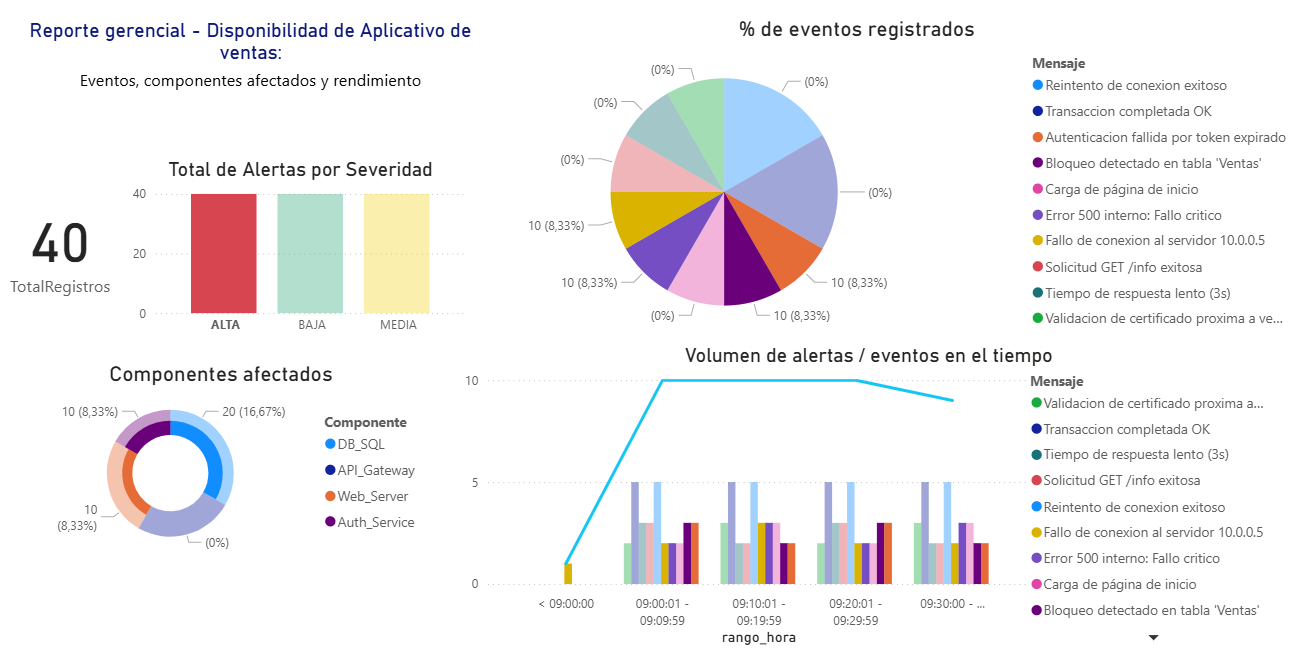

This screenshot's page, from the dashboard's own definition file:
{"tool":"powerbi","page":{"name":"Página 1","canvas":[1280,720],"ordinal":0},"visuals":[{"type":"pieChart","title":"% de eventos registrados","fields":{"Category":["logs_transacciones.Mensaje"],"Y":["CountNonNull(logs_transacciones.Mensaje)"]},"box":[409.6,22,870.7,320.4],"z":0},{"type":"clusteredColumnChart","title":"Total de Alertas por Severidad","fields":{"Category":["logs_transacciones.Severidad"],"Y":["CountNonNull(logs_transacciones.Severidad)"]},"box":[132.1,160.2,337.5,182.2],"z":1000},{"type":"card","fields":{"Values":["logs_transacciones.Medida"]},"box":[0,182.2,132.1,129.6],"z":2000},{"type":"donutChart","title":"Componentes afectados","fields":{"Category":["logs_transacciones.Componente"],"Y":["CountNonNull(logs_transacciones.Severidad)"]},"box":[18.3,359.5,409.6,195.7],"z":3000},{"type":"textbox","title":"Reporte gerencial - Disponibilidad de Aplicativo de ventas:","box":[18.3,24.5,467.1,100.3],"z":4000},{"type":"lineClusteredColumnComboChart","title":"Volumen de alertas / eventos en el tiempo","fields":{"Y":["CountNonNull(logs_transacciones.Mensaje)"],"Category":["logs_transacciones.rango_hora"],"Y2":["CountNonNull(logs_transacciones.Mensaje)"],"Series":["logs_transacciones.Mensaje"]},"box":[455.4,342.6,803.6,299.8],"z":5000}]}

Visuals, with their boxes on the page's 1280x720 design canvas (x1, y1, x2, y2). These are canvas units, not pixel positions in the 1298x672 screenshot, which may show the page scaled, cropped or inside an application window:
"% de eventos registrados" pieChart: [410, 22, 1280, 342]
"Total de Alertas por Severidad" clusteredColumnChart: [132, 160, 470, 342]
card - logs_transacciones.Medida: [0, 182, 132, 312]
"Componentes afectados" donutChart: [18, 360, 428, 555]
"Reporte gerencial - Disponibilidad de Aplicativo de ventas:" textbox: [18, 24, 485, 125]
"Volumen de alertas / eventos en el tiempo" lineClusteredColumnComboChart: [455, 343, 1259, 642]
